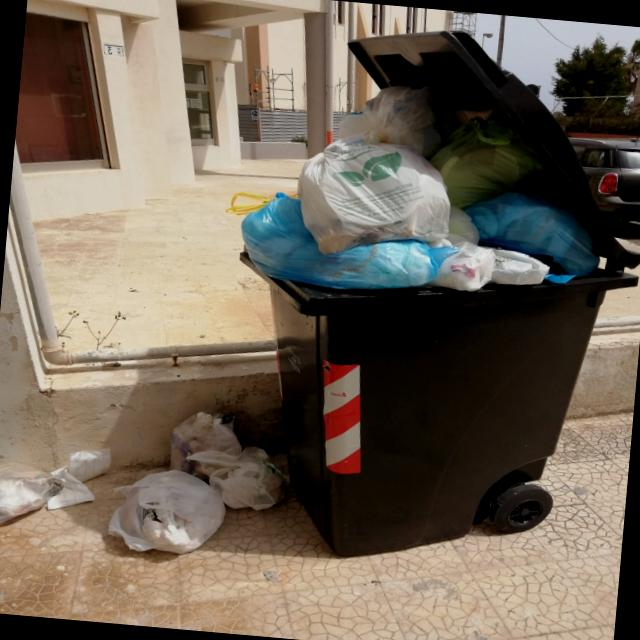garbage: (88, 1, 640, 586)
